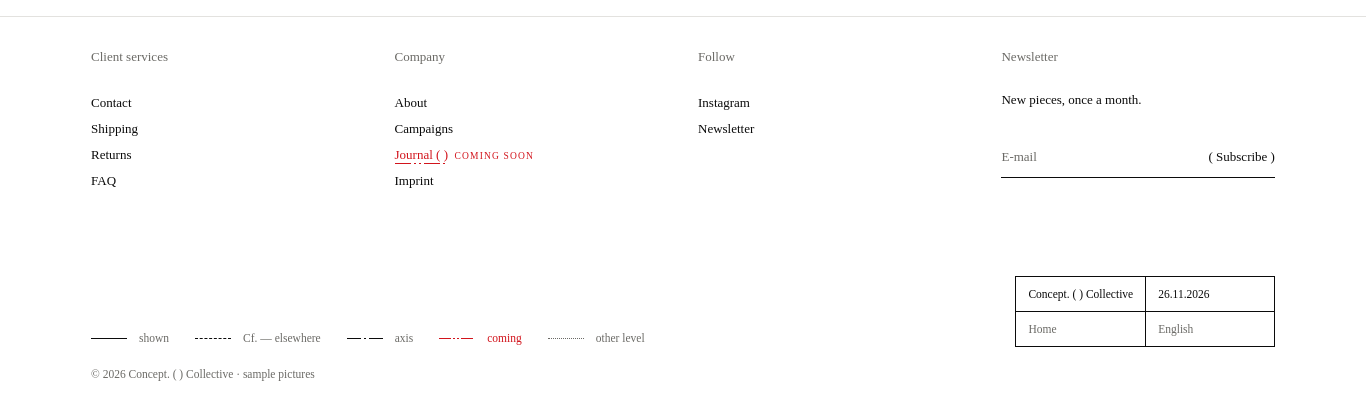
Scenario: Newsletter form › says it is not connected yet while there is no API base
Type "someone@example.com" into the field with placeholder "E-mail" at x=1099, y=157, box [1002,136,1196,177]
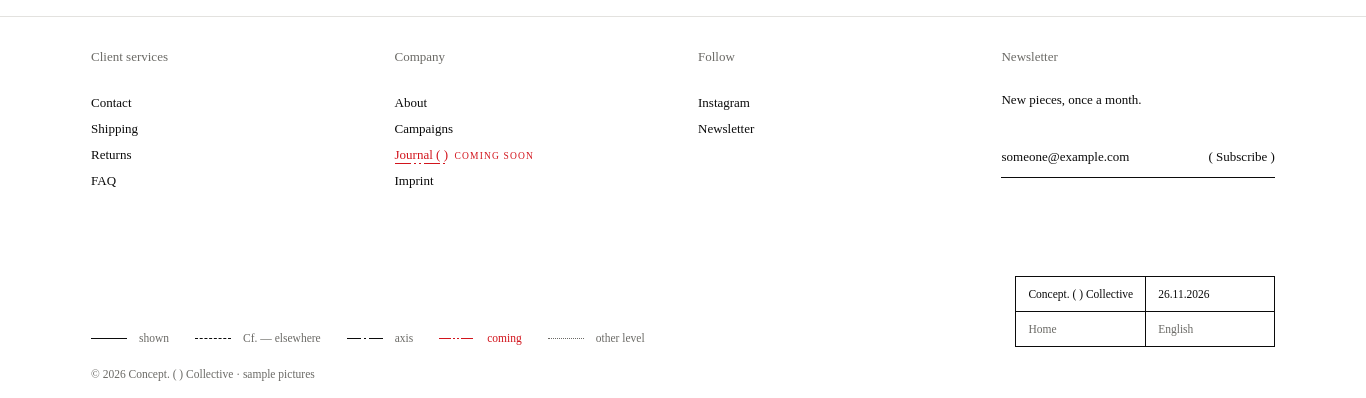
Click the button "( Subscribe )" at x=1236, y=157, box [1196,136,1275,177]
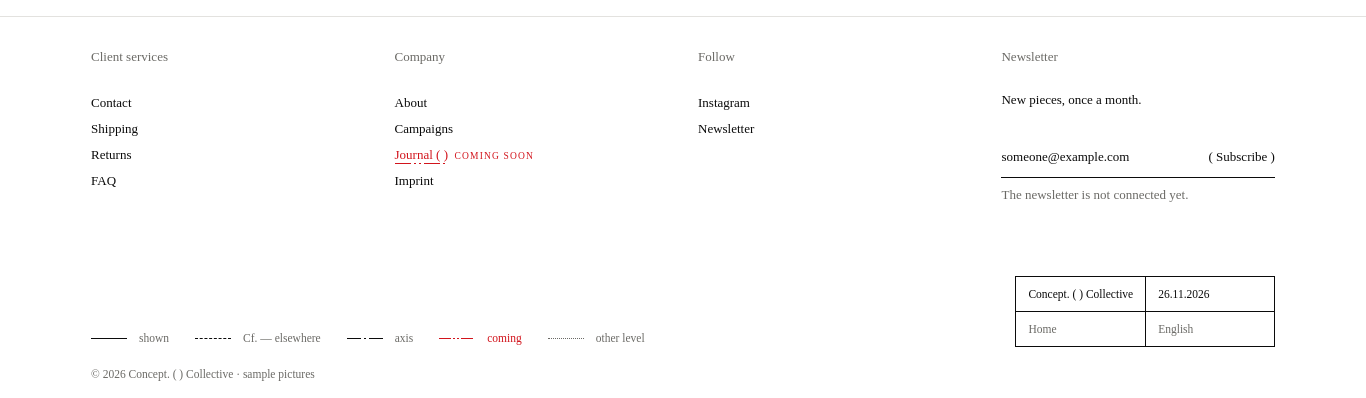
Check: the message reads "The newsletter is not connected yet.", box [1002,187,1188,202]
